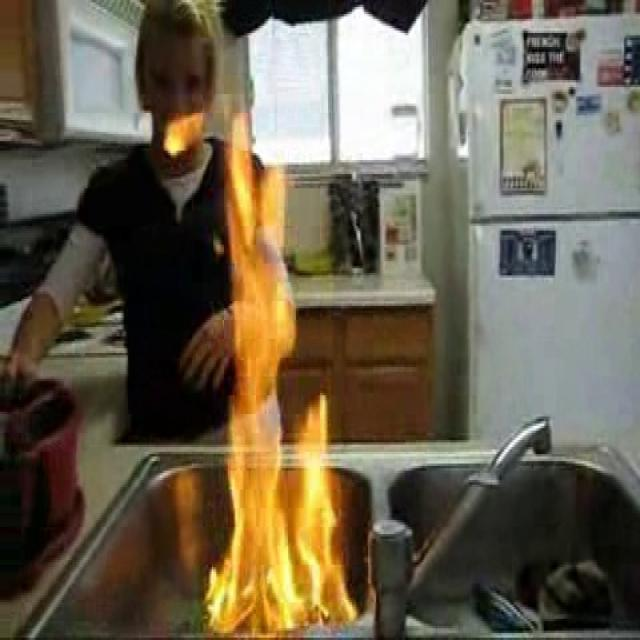Fire: (216, 118, 352, 636)
